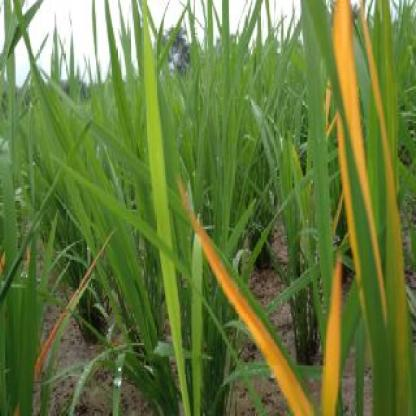Tungro: (326, 1, 381, 332)
